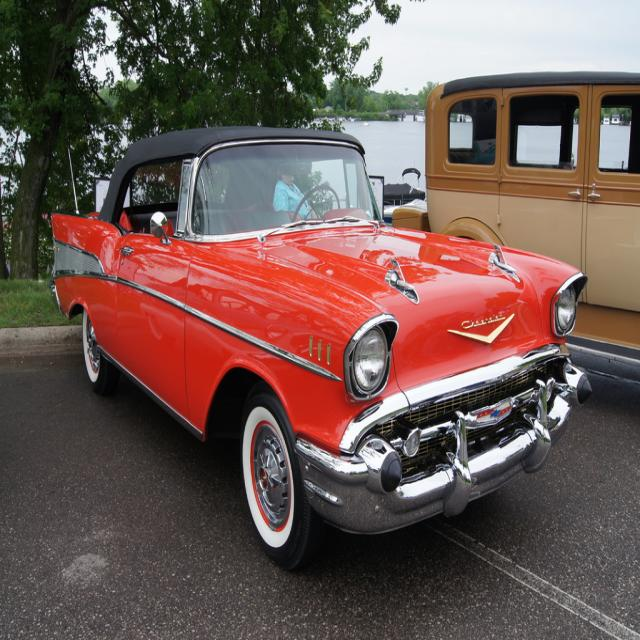car: (63, 135, 563, 557)
